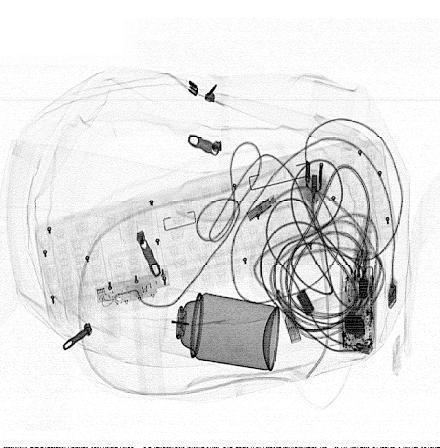Sprayer: (159, 287, 281, 373)
